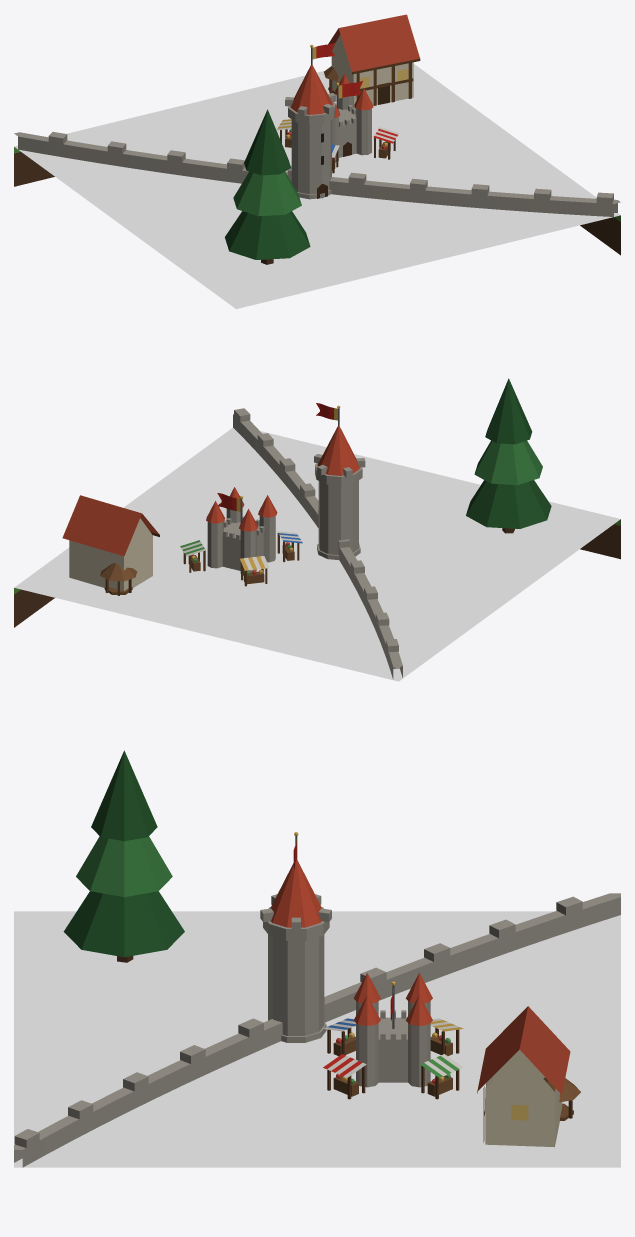
Rendered from xccrf.glb.
The picture shows the model from 3 angles, top to bottom: view 1: azimuth 30°, elevation 25°; view 2: azimuth 150°, elevation 25°; view 3: azimuth 270°, elevation 25°; orthographic projection. The views are drawn at different scales.
Parts seen in each view (by area): view 1: xccrf; view 2: xccrf; view 3: xccrf.
Boxes of the visible parts, <box> form: xccrf: <box>14,14,620,309</box>; xccrf: <box>14,378,620,681</box>; xccrf: <box>14,750,620,1167</box>.
Bounding box in the file's own units: 2 × 0.96 × 2.
